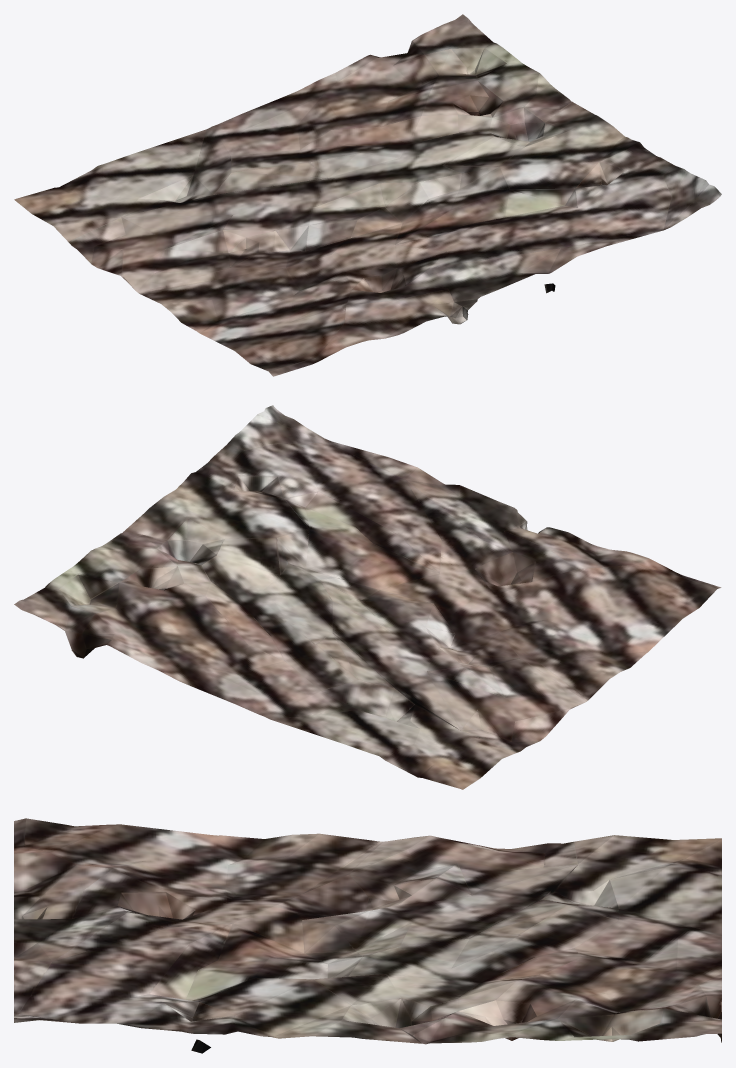
3 renders of one model, top to bottom at view 1: azimuth 30°, elevation 25°; view 2: azimuth 150°, elevation 25°; view 3: azimuth 270°, elevation 25°, orthographic. The views are drawn at different scales.
Size of the model in its own units: 1.67 by 0.342 by 1.67.
Materials: 3 (3 with a texture image).
